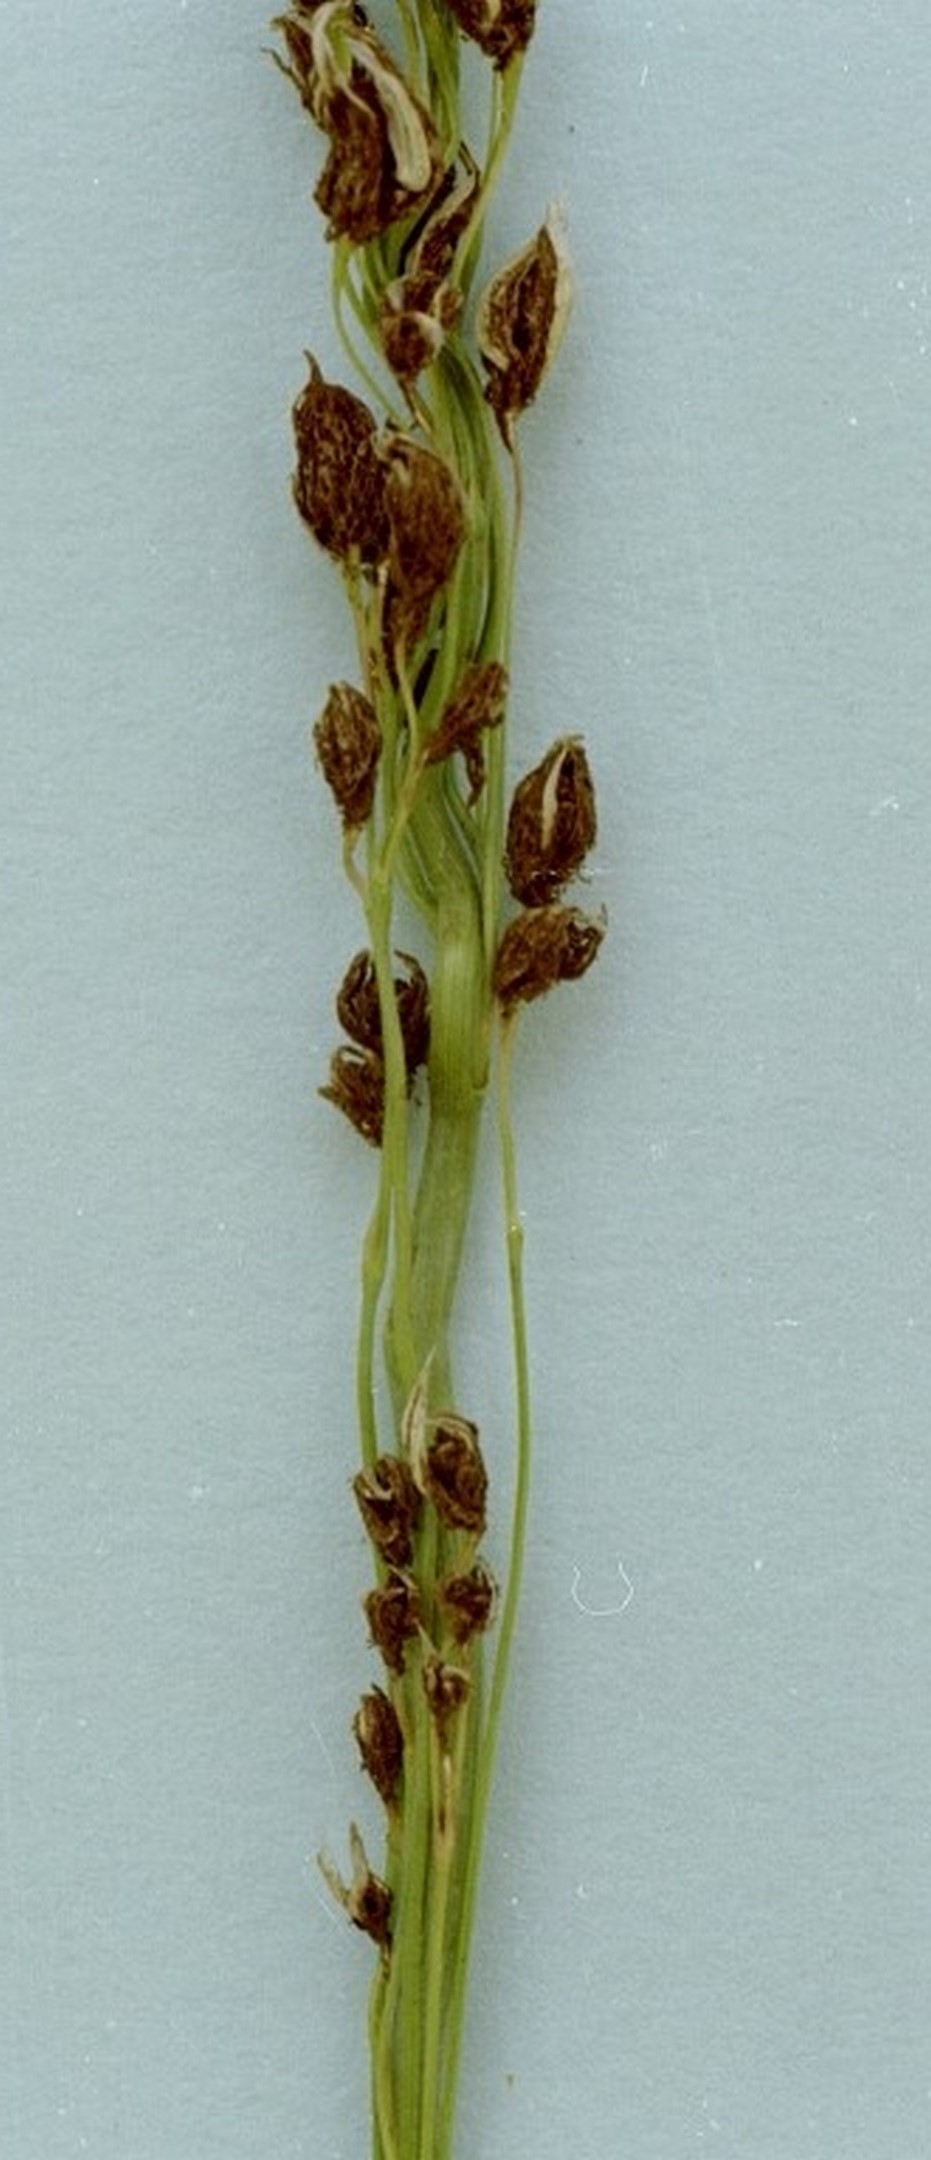Wheat Loose Smut: (222, 52, 643, 1254)
